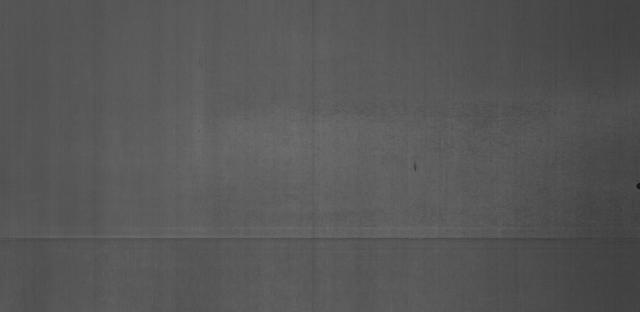welding_line: (1, 228, 636, 253)
